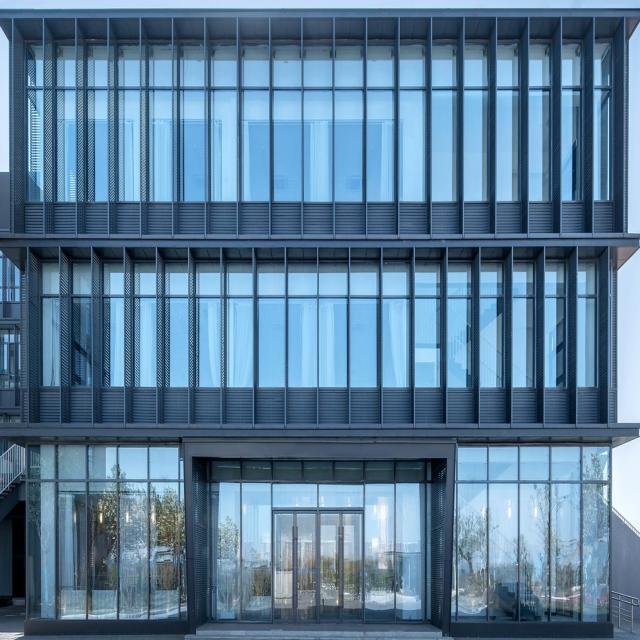door: (272, 507, 367, 623)
window: (20, 40, 610, 202), (37, 266, 596, 390), (202, 469, 431, 631), (452, 445, 608, 629), (36, 443, 188, 630)
